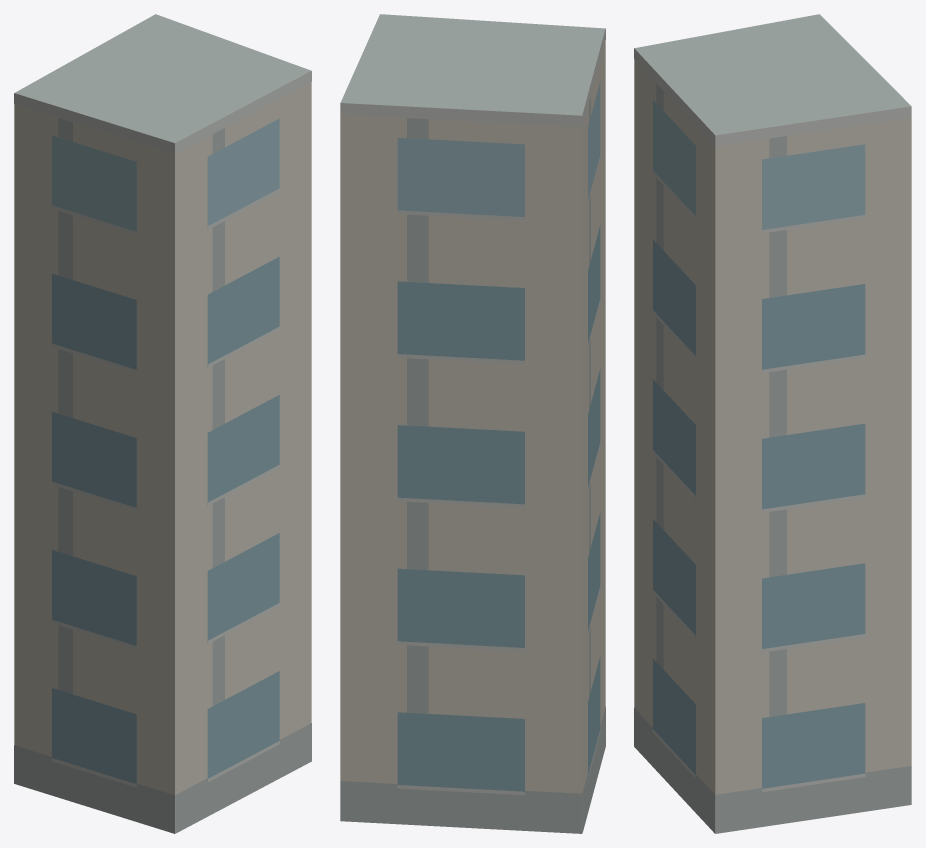
File: survey-upis-32931407.glb
3 views of the same model, side by side, from view 1: azimuth 30°, elevation 25°; view 2: azimuth 150°, elevation 25°; view 3: azimuth 270°, elevation 25° (orthographic). The views are drawn at different scales.
Visible parts, largest first — view 1: survey-upis-32931407.tmp; view 2: survey-upis-32931407.tmp; view 3: survey-upis-32931407.tmp.
Boxes of the visible parts, x1,y1,x2,y2 form: survey-upis-32931407.tmp: (14,14,311,833); survey-upis-32931407.tmp: (340,14,605,833); survey-upis-32931407.tmp: (634,14,911,833).
Bounding box in the file's own units: 5.69 × 15.25 × 5.5.
